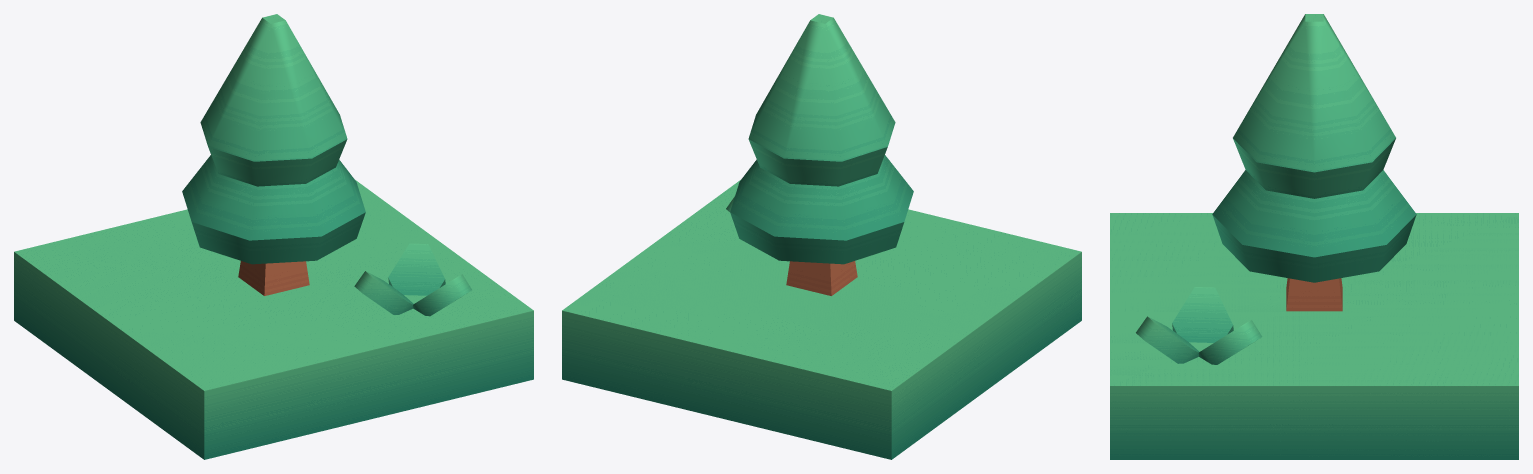
File: tower-defense-kit--tile-tree.glb
3 renders of one model, left to right at view 1: azimuth 30°, elevation 25°; view 2: azimuth 150°, elevation 25°; view 3: azimuth 270°, elevation 25°, orthographic. The views are drawn at different scales.
Visible parts, largest first — view 1: tile-tree; view 2: tile-tree; view 3: tile-tree.
Part boxes in pixels (x1,y1,x2,y2): tile-tree: [14, 14, 533, 459]; tile-tree: [562, 14, 1081, 459]; tile-tree: [1110, 14, 1518, 459].
Bounding box in the file's own units: 1 × 0.96 × 1.
Materials: 1 (1 with a texture image).
